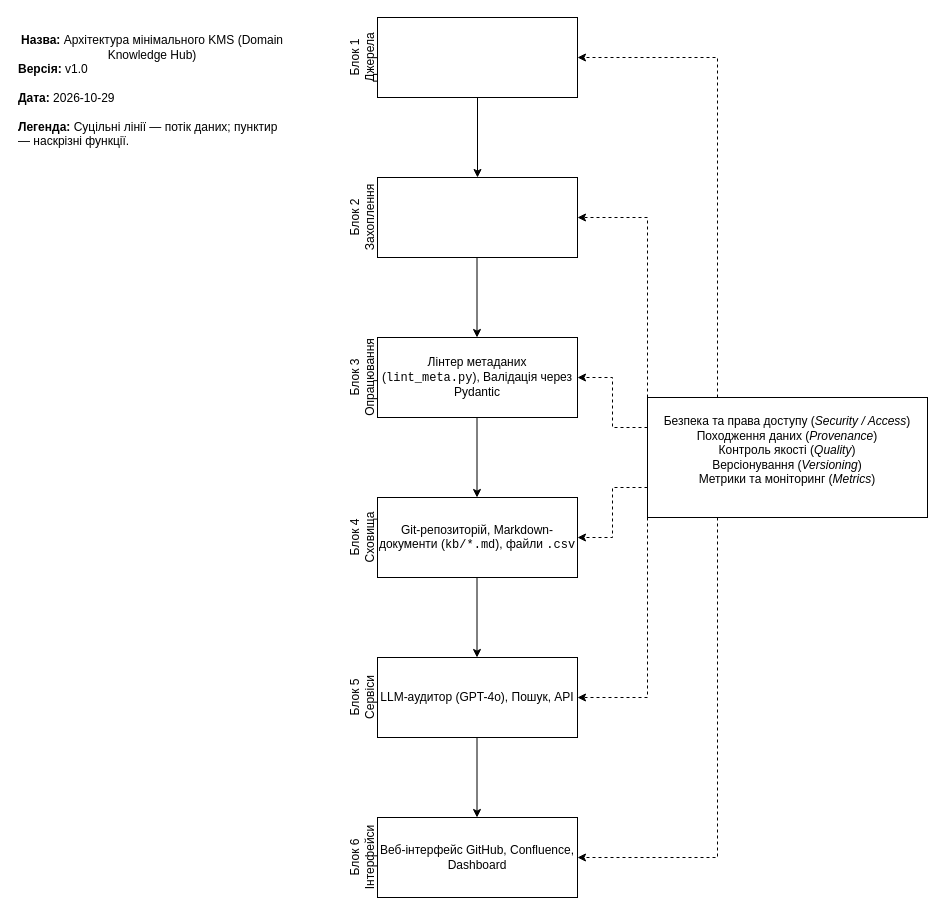
The diagram is 945 pixels wide and 915 high, and some of its shapes have lost their labels. Each missing label, with the centre of its shape:
Python-скрипти, Webhooks, Експорт з БД: the point at 477,217
Технічні паспорти (PDF), Бази даних SCADA (SQL), Чат наладчиків: the point at 477,57
